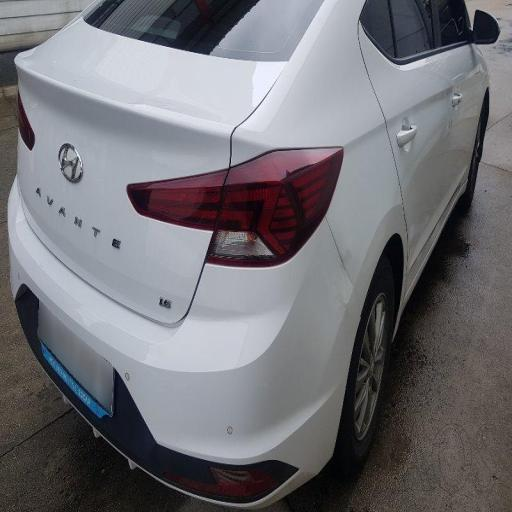dent: (313, 195, 382, 314)
